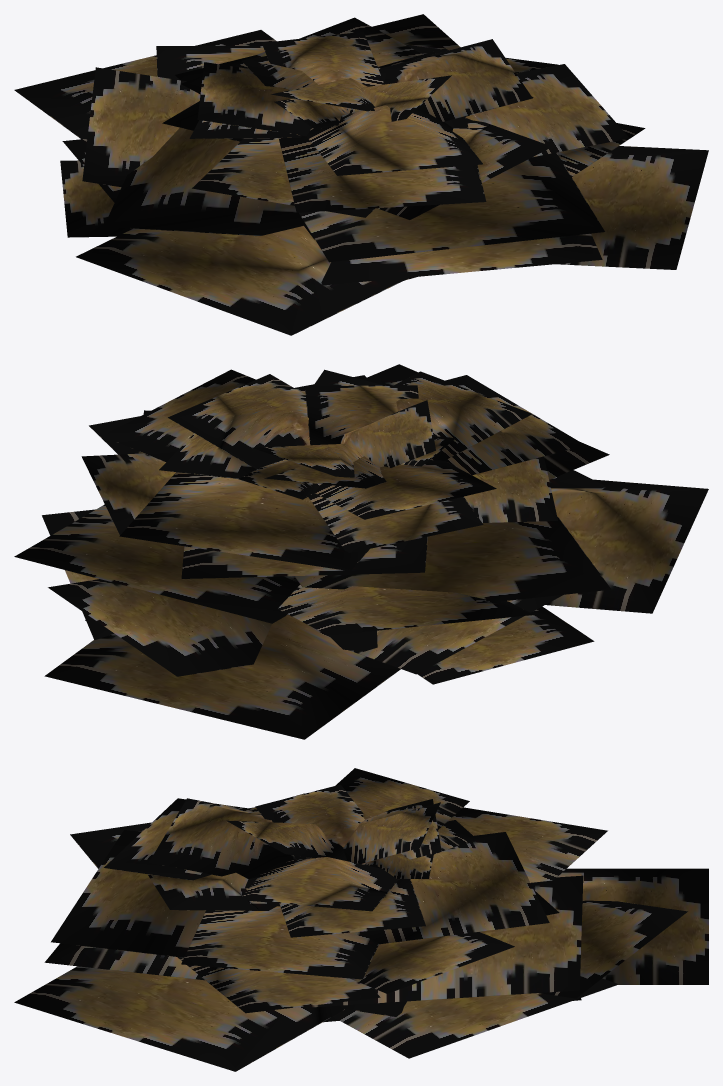
File: Coral_Big2-transformed.glb
3 renders of one model, top to bottom at view 1: azimuth 30°, elevation 25°; view 2: azimuth 150°, elevation 25°; view 3: azimuth 270°, elevation 25°, orthographic. The views are drawn at different scales.
Visible parts, largest first — view 1: Coral_Big2; view 2: Coral_Big2; view 3: Coral_Big2.
Part boxes in pixels (x1=…): Coral_Big2: x1=14, y1=14, x2=708, y2=335; Coral_Big2: x1=14, y1=364, x2=708, y2=739; Coral_Big2: x1=14, y1=768, x2=708, y2=1071.
Size of the model in its own units: 2.36 by 0.5019 by 2.52.
1 material, 1 textured.
